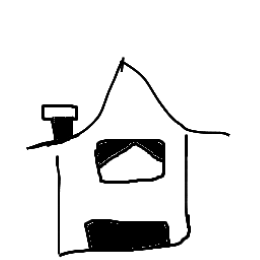bottom_placed_house: (3, 1, 260, 260)
chimney: (33, 96, 85, 150)
door: (78, 205, 177, 255)
open_window: (86, 131, 168, 193)
single_line_roof: (11, 41, 239, 141)
wall: (51, 118, 207, 257)
